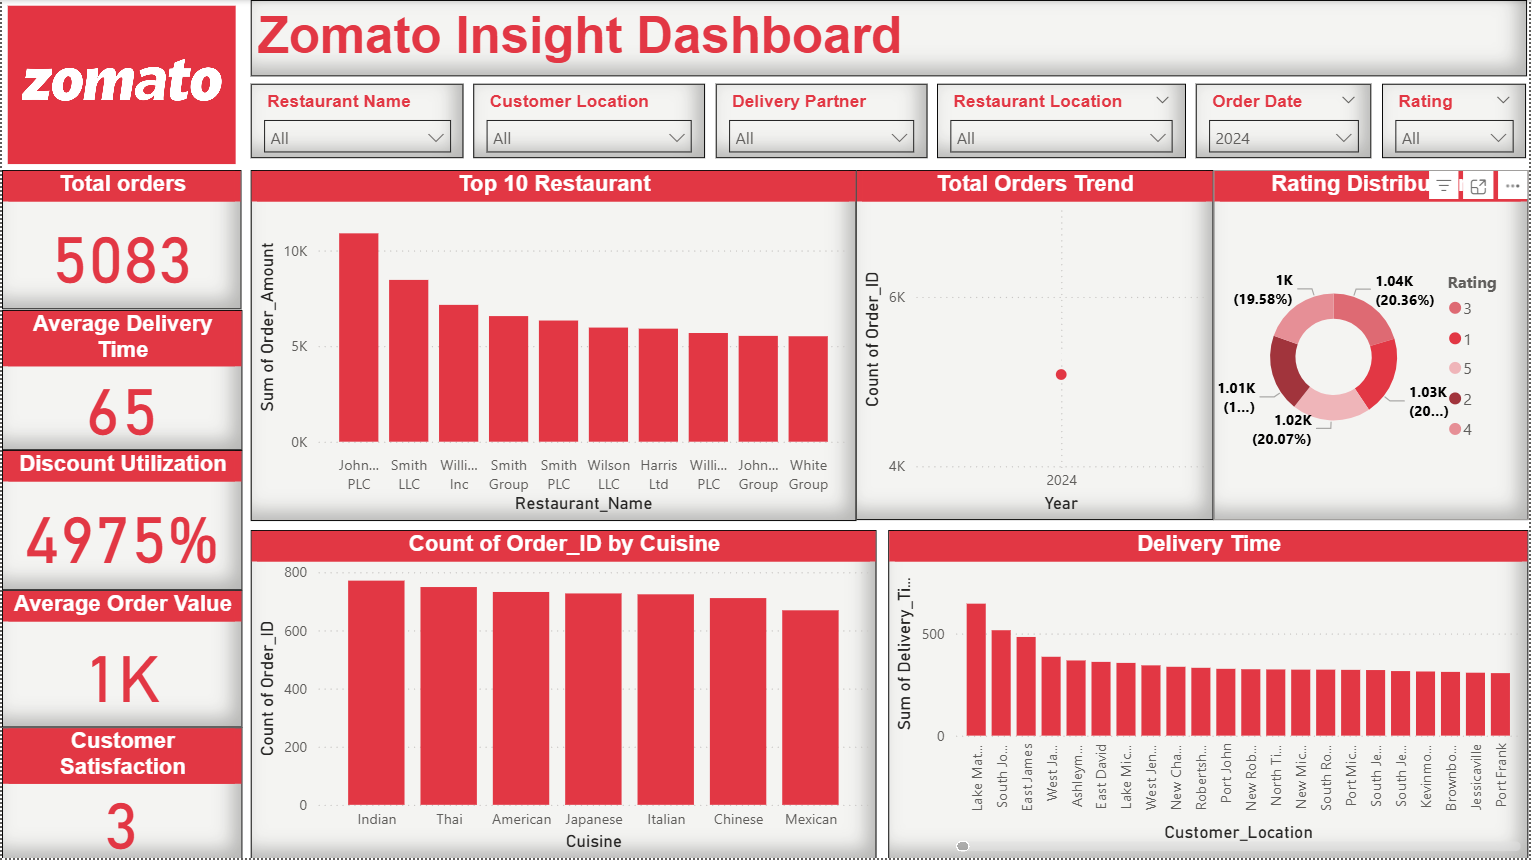

The dashboard page shown, as its layout file describes it:
{"tool":"powerbi","page":{"name":"Zomato Insight Dashboard","canvas":[1280,720],"ordinal":0},"visuals":[{"type":"slicer","fields":{"Values":["Sheet1.Restaurant_Name"]},"box":[208.5,70.7,178.6,62.3],"z":0,"group":"g1"},{"type":"card","title":"Total orders","fields":{"Values":["Count(Sheet1.Order_ID)"]},"box":[0,142.4,201,117.2],"z":0,"group":"g3"},{"type":"clusteredColumnChart","title":"Delivery Time","fields":{"Category":["Sheet1.Customer_Location"],"Y":["Sum(Sheet1.Delivery_Time_Minutes)"]},"box":[743.1,444.6,536.9,275.7],"z":0},{"type":"slicer","fields":{"Values":["Sheet1.Customer_Location"]},"box":[395.5,70.7,194.2,62.3],"z":1000,"group":"g1"},{"type":"card","title":"Average Delivery Time","fields":{"Values":["Avg(Sheet1.Delivery_Time_Minutes)"]},"box":[0,260,201.3,117.5],"z":1000,"group":"g3"},{"type":"clusteredColumnChart","fields":{"Category":["Sheet1.Cuisine"],"Y":["CountNonNull(Sheet1.Order_ID)"]},"box":[209.1,444.5,525,275.7],"z":1000},{"type":"textbox","box":[209.1,0,1070.6,64.3],"z":2000},{"type":"slicer","fields":{"Values":["Sheet1.Delivery_Partner"]},"box":[598,70.7,177.4,62.3],"z":2000,"group":"g1"},{"type":"card","title":"Average Order Value","fields":{"Values":["Avg(Sheet1.Order_Amount)"]},"box":[0,494.9,201.3,115.1],"z":2000,"group":"g3"},{"type":"image","box":[0,0,201.3,142.6],"z":3000},{"type":"slicer","fields":{"Values":["Sheet1.Rating"]},"box":[1157.7,70.7,121,62.3],"z":3000,"group":"g1"},{"type":"card","title":"Customer Satisfaction","fields":{"Values":["Avg(Sheet1.Rating)"]},"box":[0,610,201.3,110.3],"z":3000,"group":"g3"},{"type":"group","id":"g1","title":"Group 1","box":[208.5,70.7,1070.3,62.3],"z":4000},{"type":"slicer","fields":{"Values":["Sheet1.Restaurant_Location"]},"box":[783.8,70.7,208.5,62.3],"z":4000,"group":"g1"},{"type":"card","title":"Discount Utilization","fields":{"Values":["Sheet1.Discount Utilization"]},"box":[0,377.5,201.3,117.5],"z":4000,"group":"g3"},{"type":"slicer","fields":{"Values":["Sheet1.Order_Date.Variation.Date Hierarchy.Year","Sheet1.Order_Date.Variation.Date Hierarchy.Month","Sheet1.Order_Date.Variation.Date Hierarchy.Day"]},"box":[1000.7,70.7,147.4,62.3],"z":5000,"group":"g1"},{"type":"group","id":"g2","title":"Group 2","box":[209.1,142.4,1070.9,294.1],"z":5000},{"type":"lineChart","title":"Total Orders Trend","fields":{"Category":["Sheet1.Order_Date.Variation.Date Hierarchy.Year","Sheet1.Order_Date.Variation.Date Hierarchy.Month"],"Y":["CountNonNull(Sheet1.Order_ID)"]},"box":[716.7,142.6,299.6,293.6],"z":5000,"group":"g2"},{"type":"group","id":"g3","title":"Group 3","box":[0,142.4,201.3,577.9],"z":6000},{"type":"columnChart","title":"Top 10 Restaurant","fields":{"Category":["Sheet1.Restaurant_Name"],"Y":["Sum(Sheet1.Order_Amount)"]},"box":[209.1,142.4,507.7,294.1],"z":7000,"group":"g2"},{"type":"donutChart","title":"Rating Distribution","fields":{"Y":["CountNonNull(Sheet1.Order_ID)"],"Category":["Sheet1.Rating"]},"box":[1016.4,142.6,263.7,293.6],"z":8000,"group":"g2"}]}

Visuals, with their boxes in screenshot pixels (x1, y1, x2, y2), scaled from the page's 1280x720 canvas onto the 1532x863 screenshot:
slicer - Sheet1.Restaurant_Name: BBox(250, 85, 463, 159)
"Total orders" card: BBox(0, 171, 241, 311)
"Delivery Time" clusteredColumnChart: BBox(889, 533, 1531, 862)
slicer - Sheet1.Customer_Location: BBox(473, 85, 706, 159)
"Average Delivery Time" card: BBox(0, 312, 241, 452)
clusteredColumnChart - Sheet1.Cuisine x CountNonNull(Sheet1.Order_ID): BBox(250, 533, 879, 862)
textbox: BBox(250, 0, 1531, 77)
slicer - Sheet1.Delivery_Partner: BBox(716, 85, 928, 159)
"Average Order Value" card: BBox(0, 593, 241, 731)
image: BBox(0, 0, 241, 171)
slicer - Sheet1.Rating: BBox(1386, 85, 1530, 159)
"Customer Satisfaction" card: BBox(0, 731, 241, 862)
"Group 1" group: BBox(250, 85, 1531, 159)
slicer - Sheet1.Restaurant_Location: BBox(938, 85, 1188, 159)
"Discount Utilization" card: BBox(0, 452, 241, 593)
slicer - Sheet1.Order_Date.Variation.Date Hierarchy.Year x Sheet1.Order_Date.Variation.Date Hierarchy.Month: BBox(1198, 85, 1374, 159)
"Group 2" group: BBox(250, 171, 1531, 523)
"Total Orders Trend" lineChart: BBox(858, 171, 1216, 523)
"Group 3" group: BBox(0, 171, 241, 862)
"Top 10 Restaurant" columnChart: BBox(250, 171, 858, 523)
"Rating Distribution" donutChart: BBox(1217, 171, 1531, 523)
